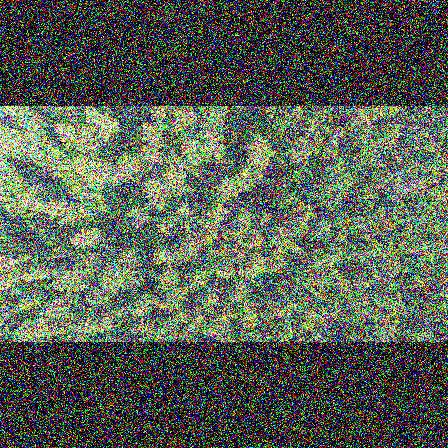Dead: (384, 186, 411, 202)
